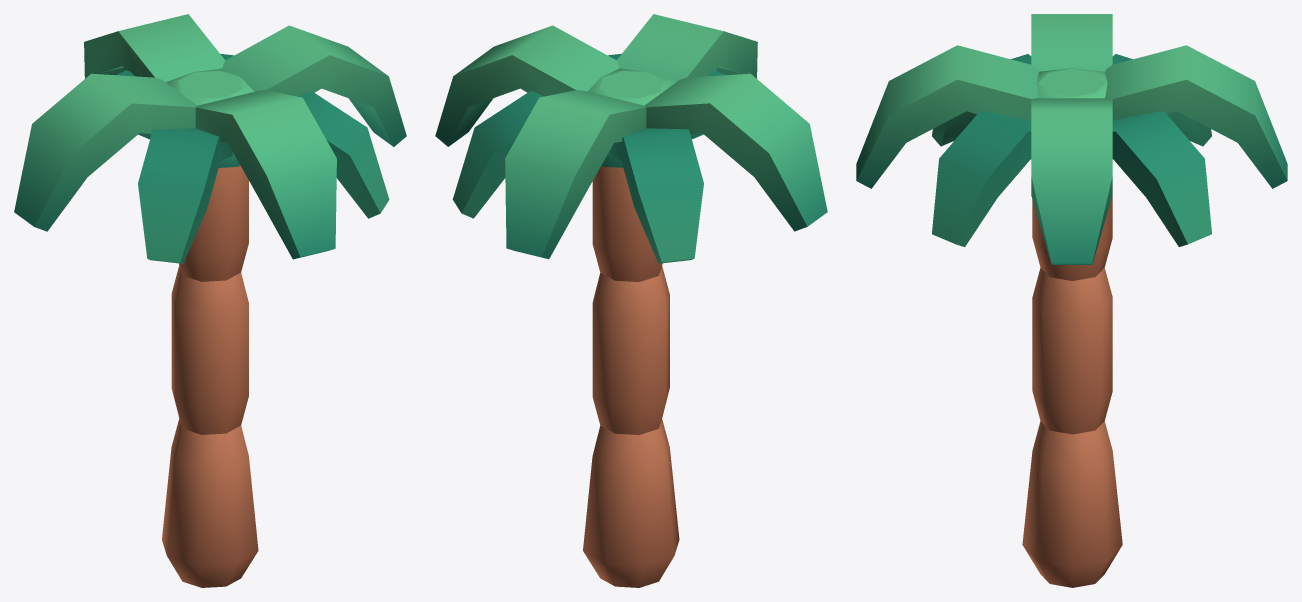
Rendered from palm_2.fbx.
3 renders of one model, left to right at view 1: azimuth 30°, elevation 25°; view 2: azimuth 150°, elevation 25°; view 3: azimuth 270°, elevation 25°, orthographic.
Visible parts, largest first — view 1: palm_2; view 2: palm_2; view 3: palm_2.
Part boxes in pixels (left/top/right/bottom): palm_2: left=14, top=14, right=406, bottom=587; palm_2: left=435, top=14, right=827, bottom=587; palm_2: left=856, top=14, right=1287, bottom=587.
Size of the model in its own units: 3.22 by 4.21 by 3.22.
Materials: 1 (1 with a texture image).
